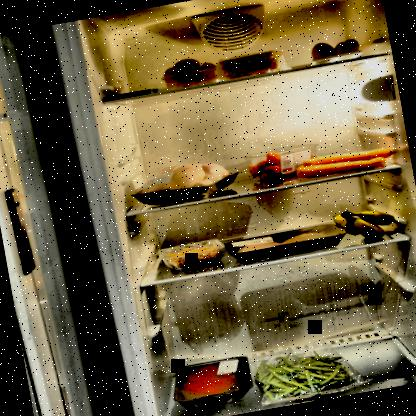banana: (330, 199, 402, 246)
beef: (168, 353, 256, 412)
carrot: (287, 142, 400, 184)
chicken: (118, 150, 243, 212), (224, 220, 350, 266)
chocolate: (104, 83, 160, 102)
eggs: (308, 35, 364, 64)
green_beans: (250, 338, 359, 408)
potato: (160, 52, 220, 90)
shrimp: (162, 240, 225, 271)
strawberries: (242, 142, 324, 184)
